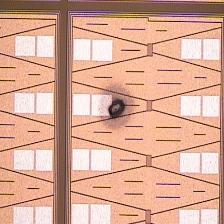PARTICLE: (94, 86, 138, 130)
